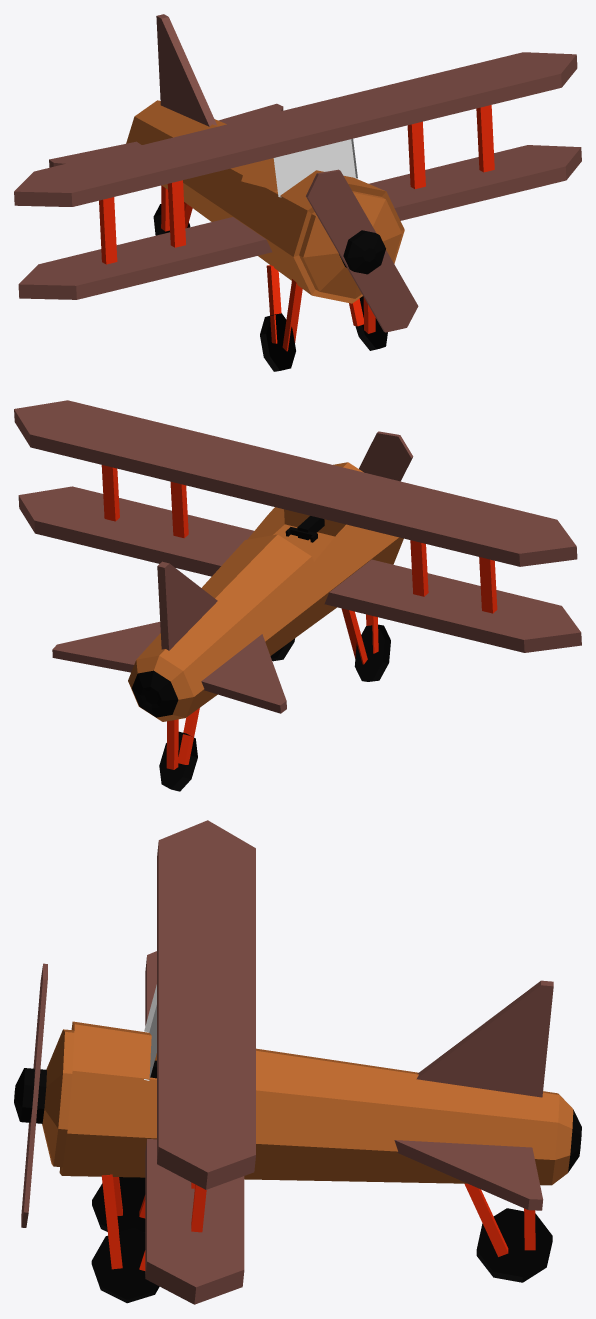
Rendered from Low_poly_Airplane.glb.
3 views of the same model, one above another, from view 1: azimuth 30°, elevation 25°; view 2: azimuth 150°, elevation 25°; view 3: azimuth 270°, elevation 25° (orthographic). The views are drawn at different scales.
Parts seen in each view (by area): view 1: Plane.001_wings_0, Plane_wings_0, Cylinder_body_0, Plane.004_wings_0, Cube_support_0, top_wings_0, Plane.002_glass_0, Cube.004_support_0, Cylinder_fanBG_0, Circle.001_wheels_0, top.001_wings_0, Circle_wheels_0 (+3 smaller); view 2: Plane.001_wings_0, Plane_wings_0, Cylinder_body_0, top.001_wings_0, Cube_support_0, top_wings_0, top.002_wings_0, Plane.004_wings_0, Cylinder_fanBG_0, Circle.001_wheels_0, Cube.005_support_0, Circle.002_wheels_0 (+1 smaller); view 3: Cylinder_body_0, Plane.001_wings_0, Plane_wings_0, top_wings_0, top.002_wings_0, Circle.002_wheels_0, Circle_wheels_0, Plane.004_wings_0, Cylinder_fanBG_0, Circle.001_wheels_0, Cube.005_support_0, Cube.003_support_0.
Boxes of the visible parts, x1,y1,x2,y2 form: Plane.001_wings_0: (14,52,577,206); Plane_wings_0: (18,145,581,299); Cylinder_body_0: (126,100,404,303); Plane.004_wings_0: (306,169,418,332); Cube_support_0: (99,105,494,264); top_wings_0: (156,14,217,126); Plane.002_glass_0: (273,138,357,197); Cube.004_support_0: (266,265,302,351); Cylinder_fanBG_0: (339,230,385,274); Circle.001_wheels_0: (260,313,295,371); top.001_wings_0: (49,141,141,167); Circle_wheels_0: (355,296,387,350); Plane.001_wings_0: (14,400,577,566); Plane_wings_0: (18,486,581,652); Cylinder_body_0: (128,462,403,721); top.001_wings_0: (201,634,286,713); Cube_support_0: (101,465,497,613); top_wings_0: (157,561,217,650); top.002_wings_0: (52,621,160,672); Plane.004_wings_0: (359,431,413,481); Cylinder_fanBG_0: (131,670,178,717); Circle.001_wheels_0: (354,624,390,681); Cube.005_support_0: (166,708,199,769); Circle.002_wheels_0: (159,731,197,791); Cylinder_body_0: (42,1021,573,1185); Plane.001_wings_0: (157,820,255,1189); Plane_wings_0: (145,951,244,1304); top_wings_0: (416,980,553,1097); top.002_wings_0: (394,1140,543,1210); Circle.002_wheels_0: (476,1208,552,1282); Circle_wheels_0: (91,1228,159,1303); Plane.004_wings_0: (21,963,47,1227); Cylinder_fanBG_0: (14,1068,581,1172); Circle.001_wheels_0: (92,1177,145,1232); Cube.005_support_0: (464,1183,535,1256); Cube.003_support_0: (101,1174,145,1270).
Bounding box in the file's own units: 1011 × 399 × 689.
